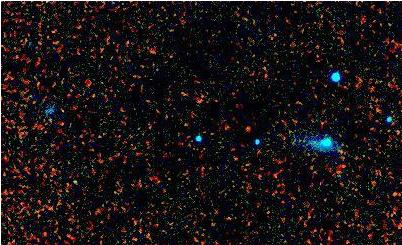star: (234, 111, 264, 141)
